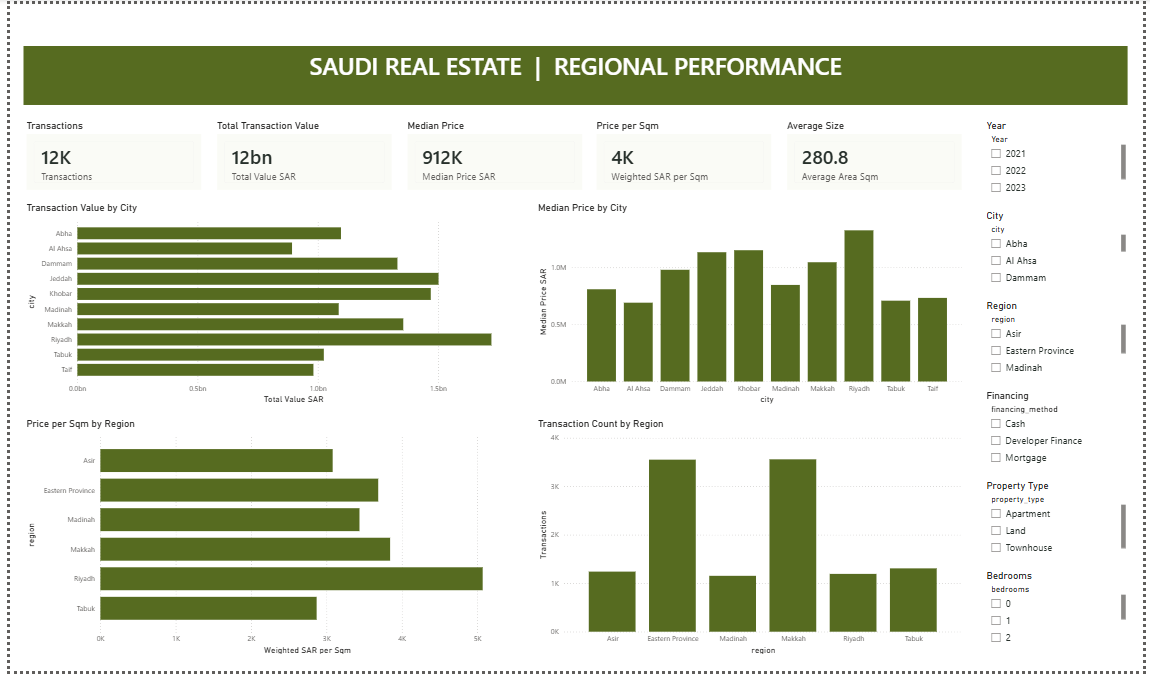

This screenshot's page, from the dashboard's own definition file:
{"tool":"powerbi","page":{"name":"03 | Regional Analysis","canvas":[1920,1080],"ordinal":2},"visuals":[{"type":"cardVisual","title":"Transactions","fields":{"Data":["Transactions.Transactions"]},"box":[24,144,306,125],"z":1000},{"type":"cardVisual","title":"Total Transaction Value","fields":{"Data":["Transactions.Total Value SAR"]},"box":[346,144,306,125],"z":1000},{"type":"cardVisual","title":"Median Price","fields":{"Data":["Transactions.Median Price SAR"]},"box":[668,144,306,125],"z":1000},{"type":"cardVisual","title":"Price per Sqm","fields":{"Data":["Transactions.Weighted SAR per Sqm"]},"box":[990,144,306,125],"z":1000},{"type":"cardVisual","title":"Average Size","fields":{"Data":["Transactions.Average Area Sqm"]},"box":[1312,144,306,125],"z":1000},{"type":"slicer","title":"Year","fields":{"Values":["Transactions.Year"]},"box":[1650,144,246,140],"z":1000},{"type":"clusteredBarChart","title":"Transaction Value by City","fields":{"Category":["Transactions.city"],"Y":["Transactions.Total Value SAR"]},"box":[24,285,845,347],"z":1000},{"type":"clusteredColumnChart","title":"Median Price by City","fields":{"Category":["Transactions.city"],"Y":["Transactions.Median Price SAR"]},"box":[889,285,729,347],"z":1000},{"type":"slicer","title":"City","fields":{"Values":["Transactions.city"]},"box":[1650,297,246,140],"z":1000},{"type":"slicer","title":"Region","fields":{"Values":["Transactions.region"]},"box":[1650,450,246,140],"z":1000},{"type":"slicer","title":"Financing","fields":{"Values":["Transactions.financing_method"]},"box":[1650,603,246,140],"z":1000},{"type":"clusteredBarChart","title":"Price per Sqm by Region","fields":{"Category":["Transactions.region"],"Y":["Transactions.Weighted SAR per Sqm"]},"box":[24,650,845,405],"z":1000},{"type":"clusteredColumnChart","title":"Transaction Count by Region","fields":{"Category":["Transactions.region"],"Y":["Transactions.Transactions"]},"box":[889,650,729,405],"z":1000},{"type":"slicer","title":"Property Type","fields":{"Values":["Transactions.property_type"]},"box":[1650,756,246,140],"z":1000},{"type":"slicer","title":"Bedrooms","fields":{"Values":["Transactions.bedrooms"]},"box":[1650,909,246,140],"z":1000},{"type":"textbox","box":[24,20,1872,100],"z":2000}]}

Visuals, with their boxes on the page's 1920x1080 design canvas (x1, y1, x2, y2). These are canvas units, not pixel positions in the 1150x674 screenshot, which may show the page scaled, cropped or inside an application window:
"Transactions" cardVisual: [24,144,330,269]
"Total Transaction Value" cardVisual: [346,144,652,269]
"Median Price" cardVisual: [668,144,974,269]
"Price per Sqm" cardVisual: [990,144,1296,269]
"Average Size" cardVisual: [1312,144,1618,269]
"Year" slicer: [1650,144,1896,284]
"Transaction Value by City" clusteredBarChart: [24,285,869,632]
"Median Price by City" clusteredColumnChart: [889,285,1618,632]
"City" slicer: [1650,297,1896,437]
"Region" slicer: [1650,450,1896,590]
"Financing" slicer: [1650,603,1896,743]
"Price per Sqm by Region" clusteredBarChart: [24,650,869,1055]
"Transaction Count by Region" clusteredColumnChart: [889,650,1618,1055]
"Property Type" slicer: [1650,756,1896,896]
"Bedrooms" slicer: [1650,909,1896,1049]
textbox: [24,20,1896,120]
